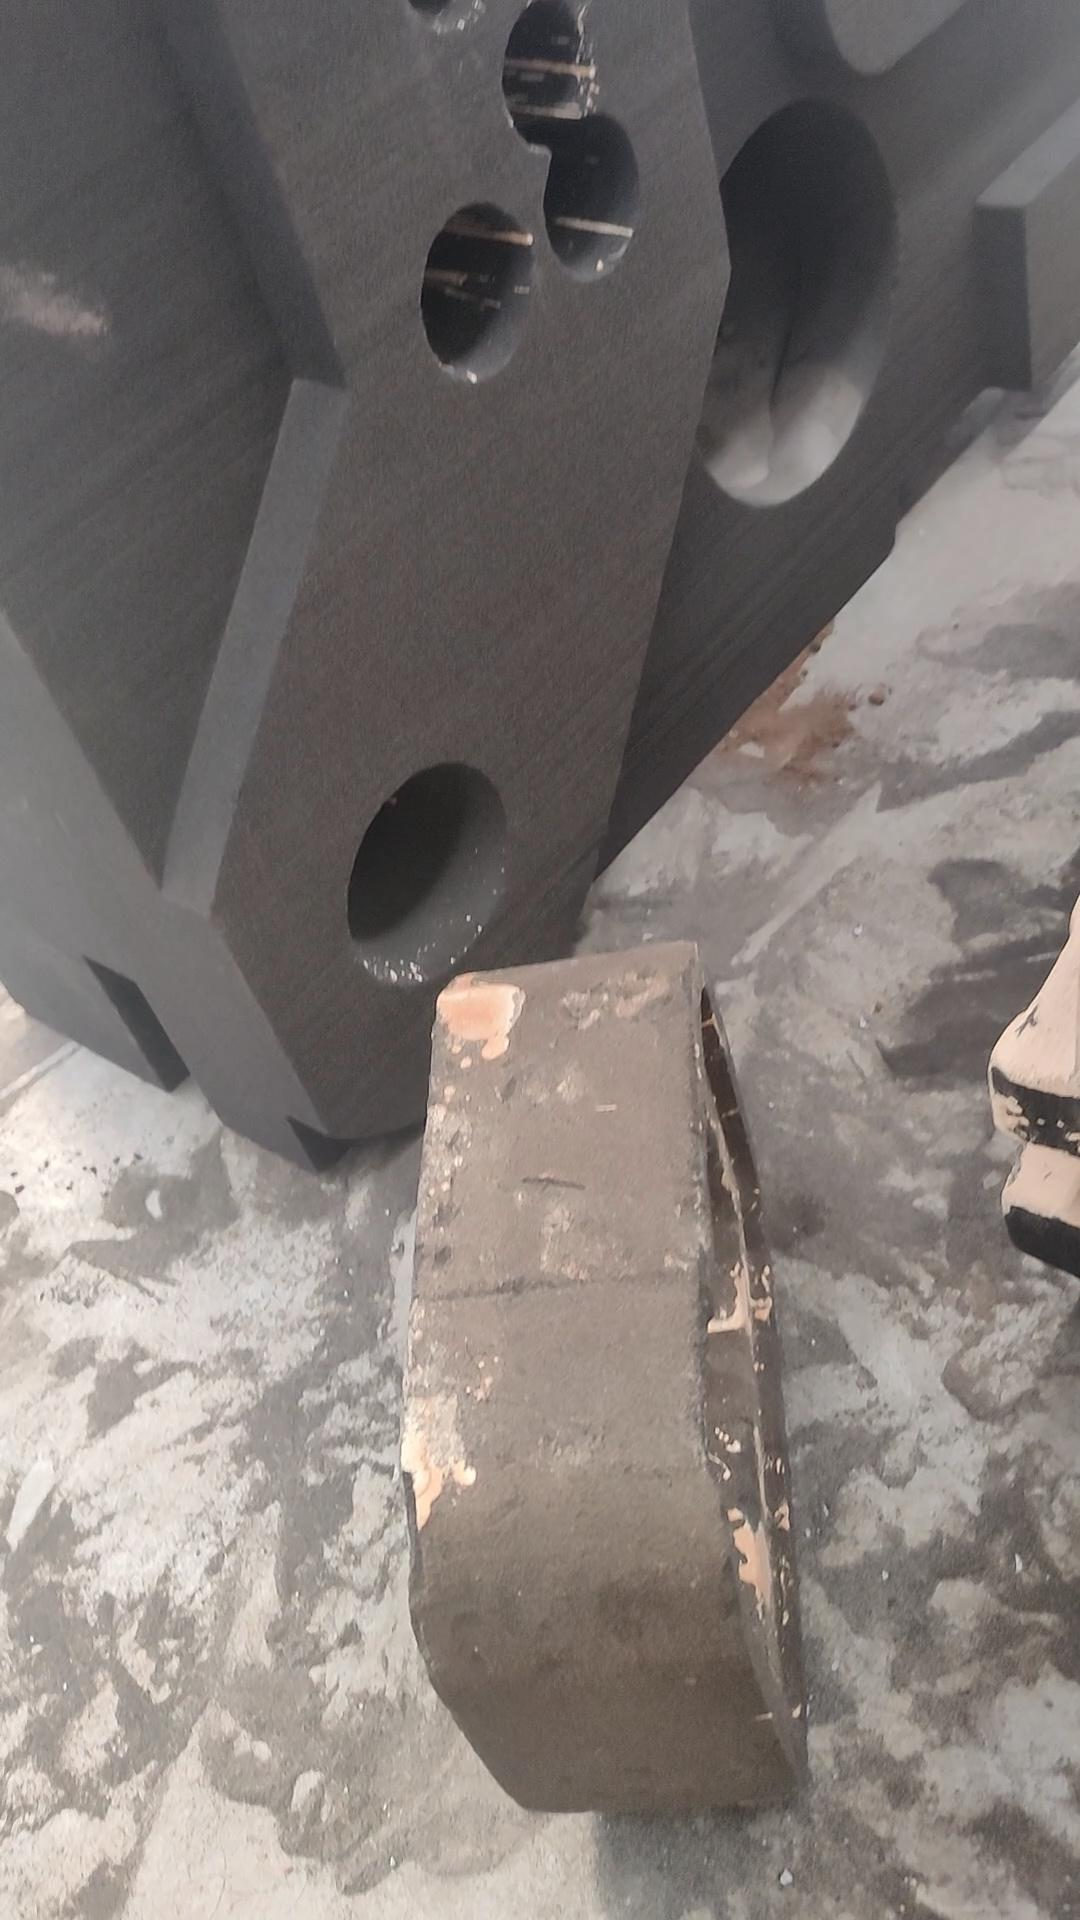pouring hole: (343, 758, 517, 986)
